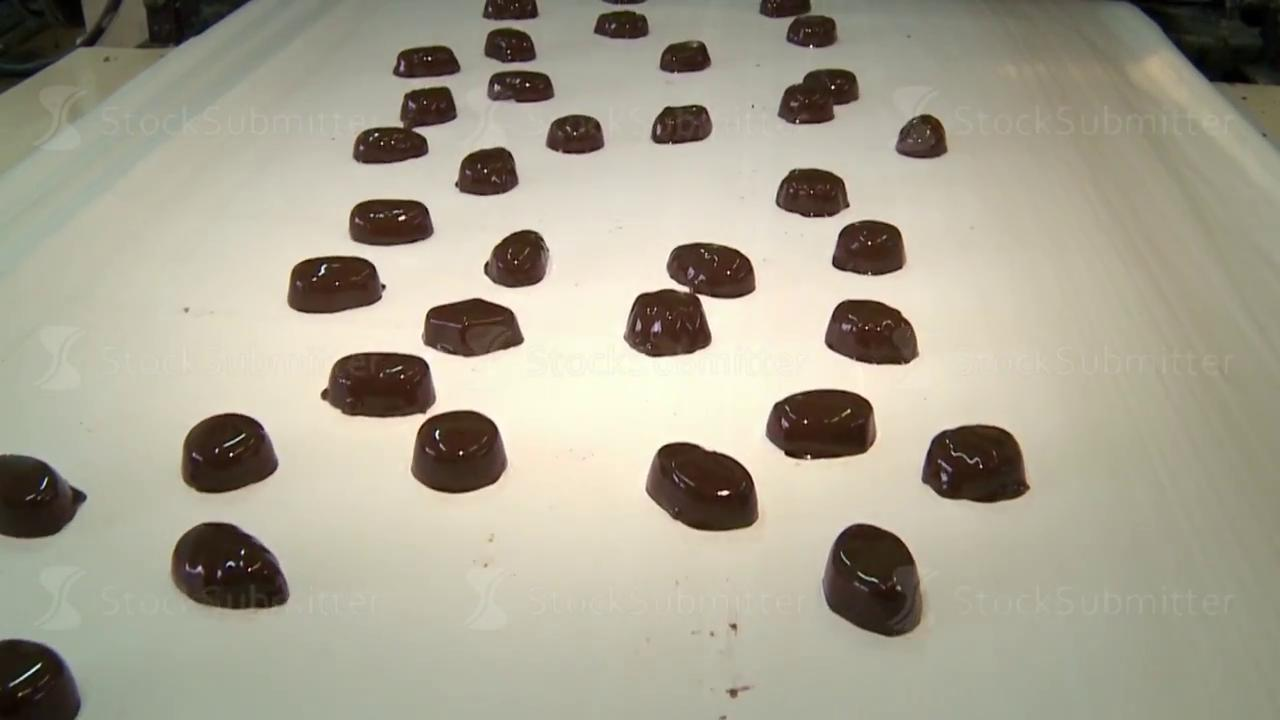chocolate: (822, 522, 922, 636), (170, 521, 289, 609), (645, 441, 758, 531), (921, 423, 1029, 503), (411, 409, 507, 492), (766, 388, 876, 459), (181, 412, 278, 492), (321, 351, 435, 417), (0, 452, 86, 538), (0, 638, 81, 719), (825, 298, 918, 365), (422, 297, 523, 356), (624, 288, 711, 356), (287, 255, 384, 313), (666, 241, 755, 298), (832, 219, 905, 275), (349, 198, 433, 245), (484, 229, 549, 287), (775, 167, 849, 217), (456, 146, 518, 195), (352, 126, 428, 163), (651, 104, 712, 144), (778, 82, 834, 124), (400, 85, 456, 126), (895, 114, 947, 158), (546, 114, 604, 153), (393, 45, 460, 77), (487, 70, 554, 102), (484, 27, 535, 63), (659, 39, 710, 73), (786, 14, 836, 47), (594, 10, 648, 39), (482, 0, 538, 20)
